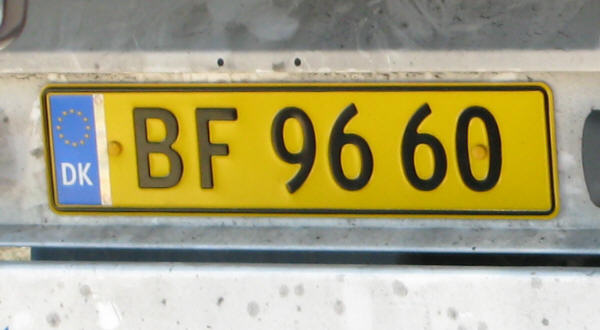license_plate: (40, 84, 559, 218)
